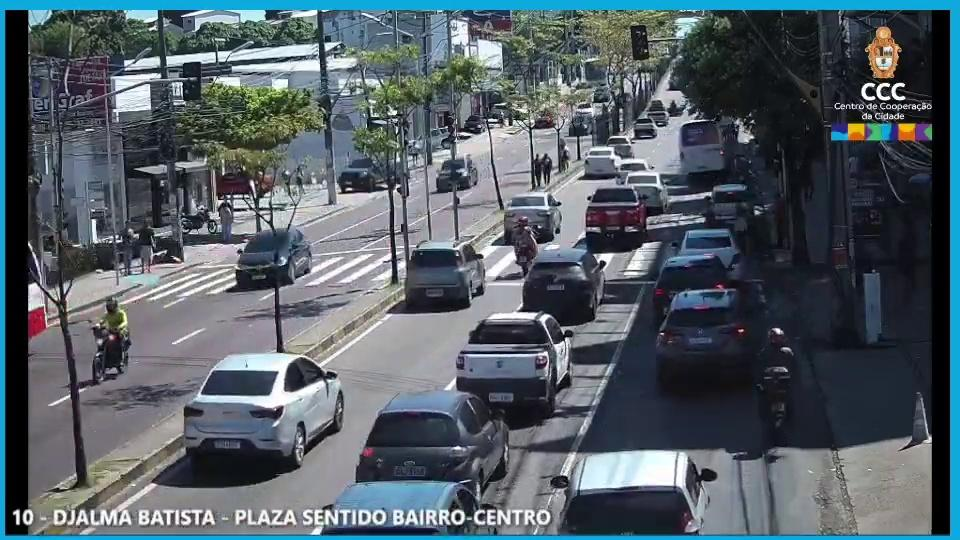biker: (751, 320, 802, 440), (89, 295, 132, 381), (511, 216, 538, 276)
car: (182, 353, 348, 465), (356, 391, 512, 492), (550, 453, 712, 535), (453, 311, 575, 411), (653, 285, 758, 389), (522, 247, 609, 319), (230, 222, 315, 289), (402, 237, 486, 304), (581, 185, 649, 242), (497, 190, 565, 239), (434, 151, 481, 193), (581, 147, 620, 176)
people: (139, 218, 155, 274), (216, 197, 234, 240), (542, 150, 557, 186), (533, 154, 542, 186)
truck: (676, 121, 726, 181)
